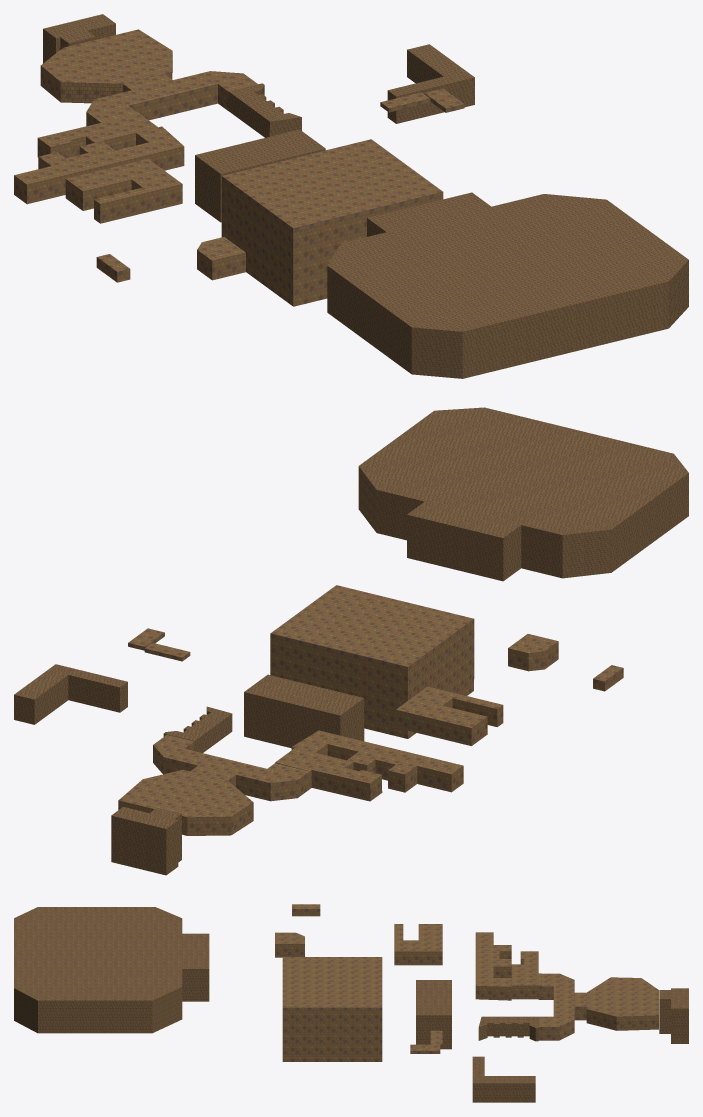
The model's file is FloorsCOELevel6.fbx.
3 views of the same model, one above another, from view 1: azimuth 30°, elevation 25°; view 2: azimuth 150°, elevation 25°; view 3: azimuth 270°, elevation 25° (orthographic). The views are drawn at different scales.
Parts seen in each view (by area): view 1: PolyShape__15_, Cube__2_, PolyShape__12_, PolyShape__8_, PolyShape__14_, PolyShape__18_, Cube__1_, PolyShape, PolyShape__9_, PolyShape__6_, PolyShape__13_, Cube (+3 smaller); view 2: PolyShape__15_, Cube__2_, Cube__1_, PolyShape__12_, PolyShape__8_, PolyShape__18_, PolyShape__14_, PolyShape, Cube, PolyShape__9_, PolyShape__6_, PolyShape__13_; view 3: PolyShape__15_, Cube__2_, PolyShape__12_, PolyShape__18_, PolyShape__8_, Cube__1_, PolyShape, PolyShape__14_, PolyShape__6_, PolyShape__9_, Cube, PolyShape__13_ (+2 smaller).
Boxes of the visible parts, box(x1,y1,x2,y2) form: PolyShape__15_: box(327, 192, 688, 378); Cube__2_: box(221, 139, 443, 306); PolyShape__12_: box(40, 29, 172, 103); PolyShape__8_: box(14, 126, 184, 204); PolyShape__14_: box(65, 159, 182, 223); PolyShape__18_: box(86, 71, 257, 126); Cube__1_: box(195, 129, 325, 222); PolyShape: box(387, 44, 474, 123); PolyShape__9_: box(37, 111, 157, 158); PolyShape__6_: box(228, 83, 301, 137); PolyShape__13_: box(197, 237, 245, 280); Cube: box(43, 14, 115, 63); PolyShape__15_: box(358, 407, 688, 581); Cube__2_: box(270, 585, 474, 738); Cube__1_: box(244, 674, 364, 748); PolyShape__12_: box(118, 769, 253, 835); PolyShape__8_: box(291, 730, 463, 792); PolyShape__18_: box(153, 735, 309, 801); PolyShape__14_: box(396, 686, 503, 745); PolyShape: box(14, 664, 127, 724); Cube: box(111, 807, 178, 875); PolyShape__9_: box(275, 748, 382, 801); PolyShape__6_: box(163, 706, 232, 752); PolyShape__13_: box(508, 634, 558, 671); PolyShape__15_: box(14, 907, 209, 1033); Cube__2_: box(282, 957, 382, 1061); PolyShape__12_: box(586, 977, 658, 1030); PolyShape__18_: box(538, 973, 586, 1040); PolyShape__8_: box(475, 932, 511, 1000); Cube__1_: box(416, 980, 451, 1049); PolyShape: box(472, 1056, 535, 1102); PolyShape__14_: box(394, 924, 442, 965); PolyShape__6_: box(478, 1016, 538, 1041); PolyShape__9_: box(511, 951, 541, 999); Cube: box(671, 988, 688, 1043); PolyShape__13_: box(275, 932, 304, 957).
Size of the model in its own units: 13020 by 3119 by 22469.
2 materials, 2 textured.
